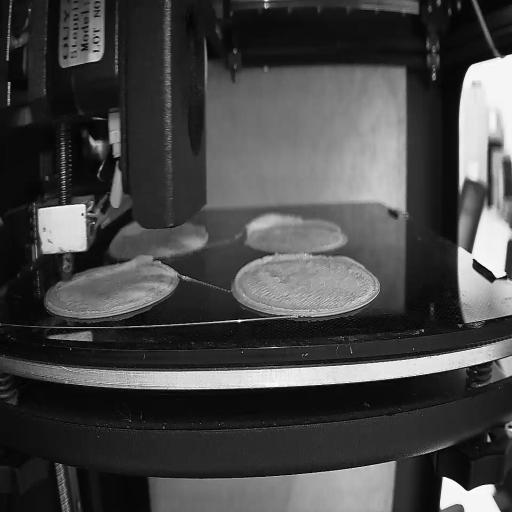over_extrusion: (234, 252, 312, 313), (62, 250, 156, 288), (241, 208, 303, 242), (306, 215, 343, 234), (331, 252, 366, 270)
